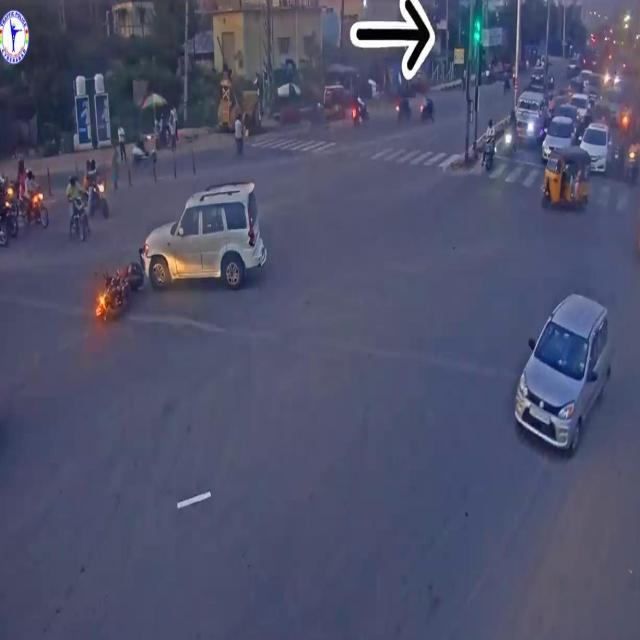accident: (89, 176, 271, 328)
non_accident: (482, 91, 640, 221), (0, 157, 51, 255), (69, 150, 112, 246)
